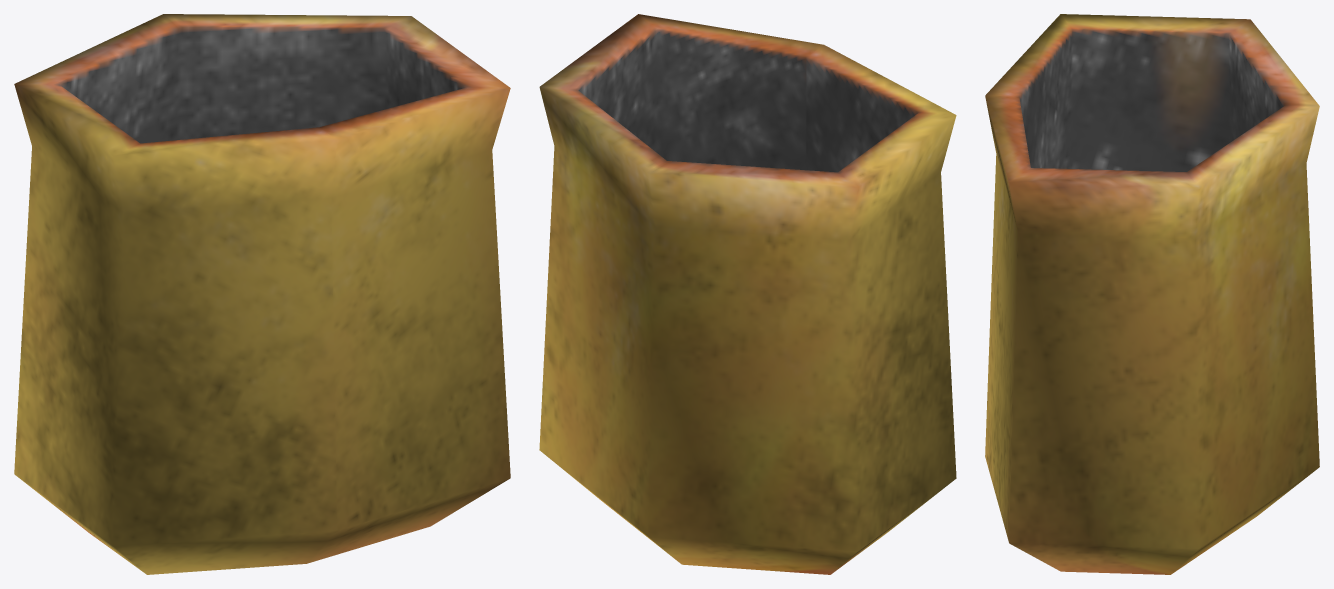
The model's file is chalk_pickup.fbx.
3 renders of one model, left to right at view 1: azimuth 30°, elevation 25°; view 2: azimuth 150°, elevation 25°; view 3: azimuth 270°, elevation 25°, orthographic. The views are drawn at different scales.
Parts seen in each view (by area): view 1: Chalk_pickup; view 2: Chalk_pickup; view 3: Chalk_pickup.
Boxes of the visible parts, left/top/right/bottom form: Chalk_pickup: left=14, top=14, right=510, bottom=574; Chalk_pickup: left=539, top=14, right=956, bottom=574; Chalk_pickup: left=985, top=14, right=1319, bottom=574.
Bounding box in the file's own units: 15.74 × 18.24 × 13.23.
